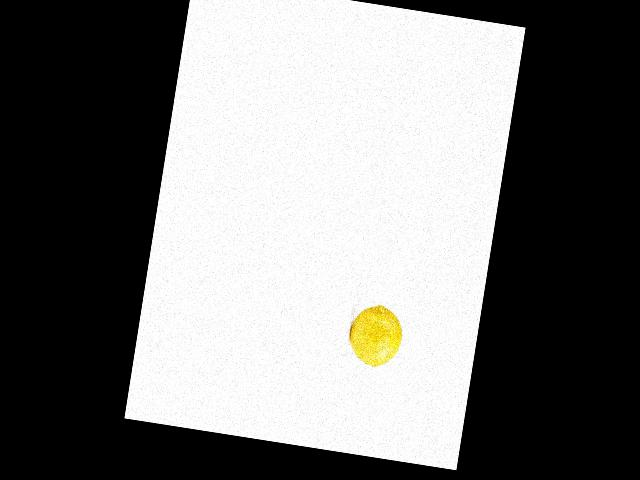lemon: (343, 291, 408, 377)
